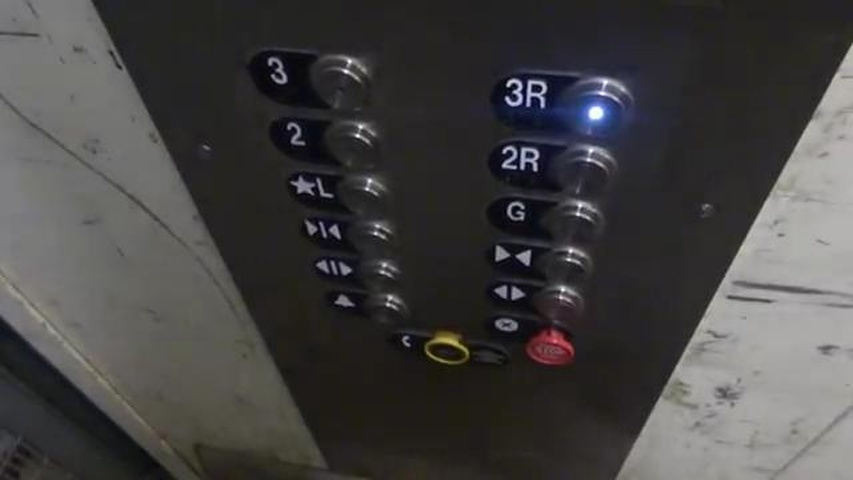2: (267, 115, 384, 168)
2R: (488, 137, 622, 201)
3: (246, 46, 375, 110)
3R: (488, 67, 635, 135)
G: (484, 193, 606, 241)
alarm: (324, 284, 409, 328)
call: (382, 329, 466, 369)
close: (487, 237, 596, 288), (295, 209, 397, 254)
open: (309, 249, 404, 293), (488, 279, 590, 317)
sL: (285, 169, 392, 216)
stop: (488, 313, 581, 365)
